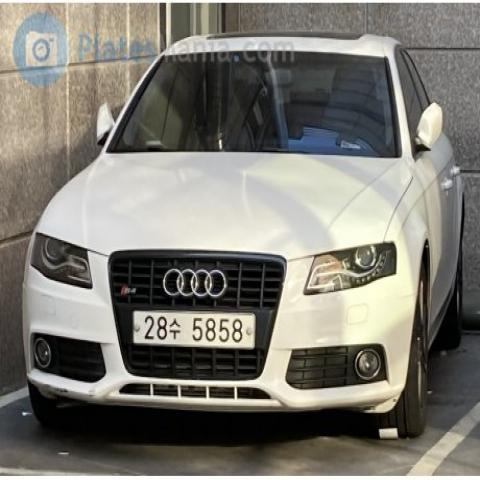LP: (128, 302, 258, 354)
